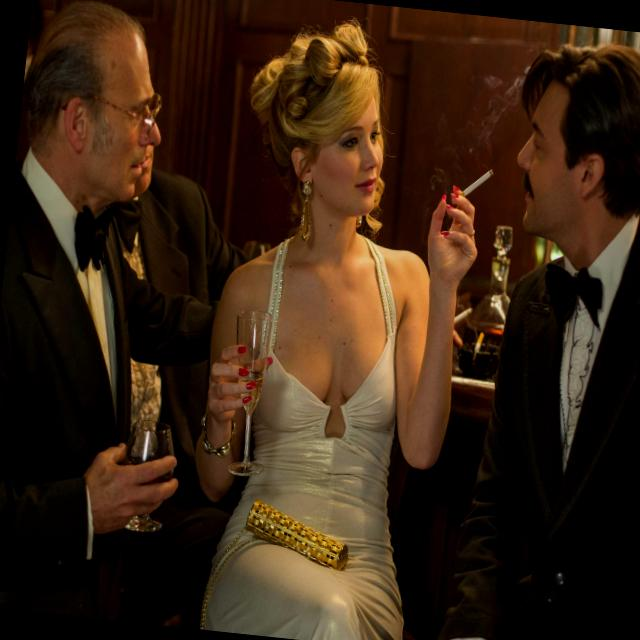cigarette: (452, 152, 498, 206)
